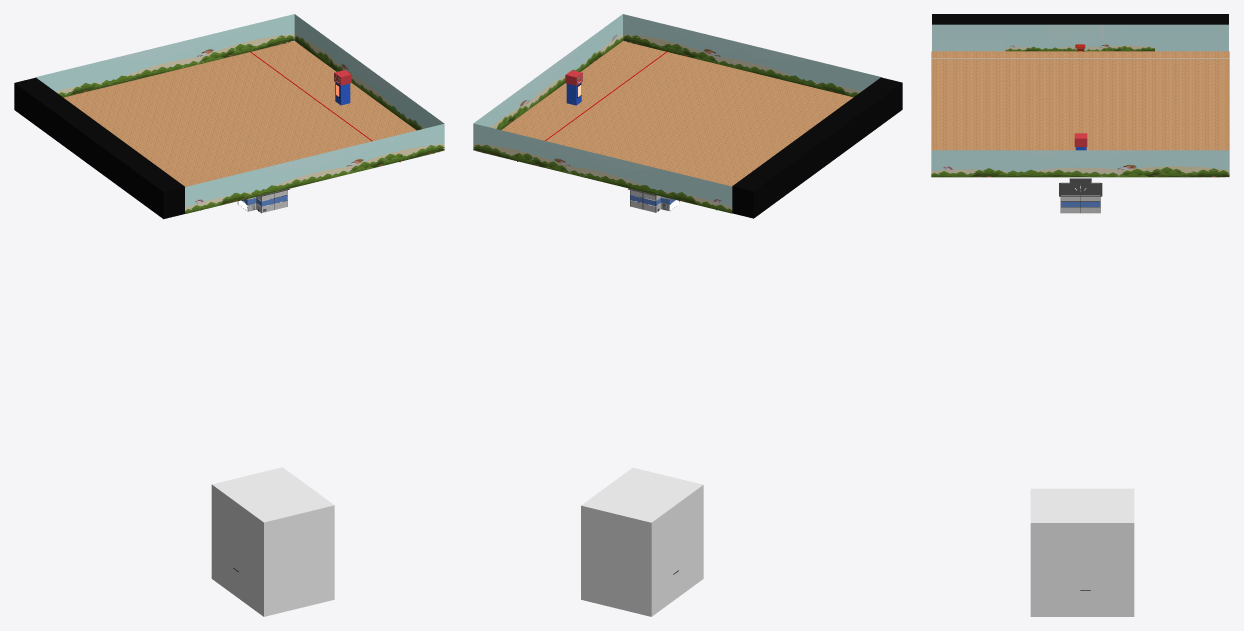
File: wassiefirst.glb
3 views of the same model, side by side, from view 1: azimuth 30°, elevation 25°; view 2: azimuth 150°, elevation 25°; view 3: azimuth 270°, elevation 25° (orthographic).
Parts seen in each view (by area): view 1: Plane, Cube.024, Cube.001, Plane.002, Plane.001, Plane.003, Walls; view 2: Plane, Cube.024, Cube.001, Plane.001, Plane.002, Plane.003, Walls; view 3: Plane, Cube.024, Cube.001, Plane.003, BackWall, Plane.004, startLine.
Part boxes in pixels (<box>): Plane: <box>64,41,416,186</box>; Cube.024: <box>211,467,334,616</box>; Cube.001: <box>14,77,184,219</box>; Plane.002: <box>185,124,444,213</box>; Plane.001: <box>35,14,294,97</box>; Plane.003: <box>294,14,444,130</box>; Walls: <box>238,189,287,212</box>; Plane: <box>501,41,853,186</box>; Cube.024: <box>581,467,703,616</box>; Cube.001: <box>732,77,902,218</box>; Plane.001: <box>473,123,732,213</box>; Plane.002: <box>623,14,881,97</box>; Plane.003: <box>473,14,622,129</box>; Walls: <box>630,189,679,212</box>; Plane: <box>931,51,1229,150</box>; Cube.024: <box>1030,488,1134,616</box>; Cube.001: <box>932,14,1228,51</box>; Plane.003: <box>931,150,1229,177</box>; BackWall: <box>1061,195,1100,213</box>; Plane.004: <box>1059,178,1102,196</box>; startLine: <box>931,58,1229,59</box>.
Size of the model in its own units: 324 by 552 by 300.
Materials: 39 (11 with a texture image).
